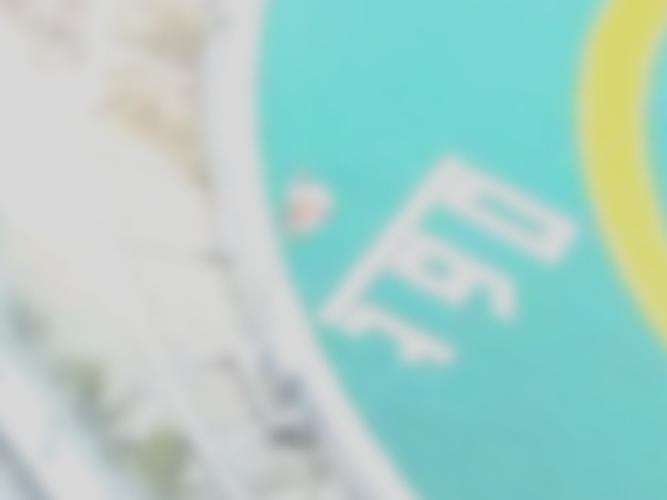Apron: (559, 2, 667, 350)
